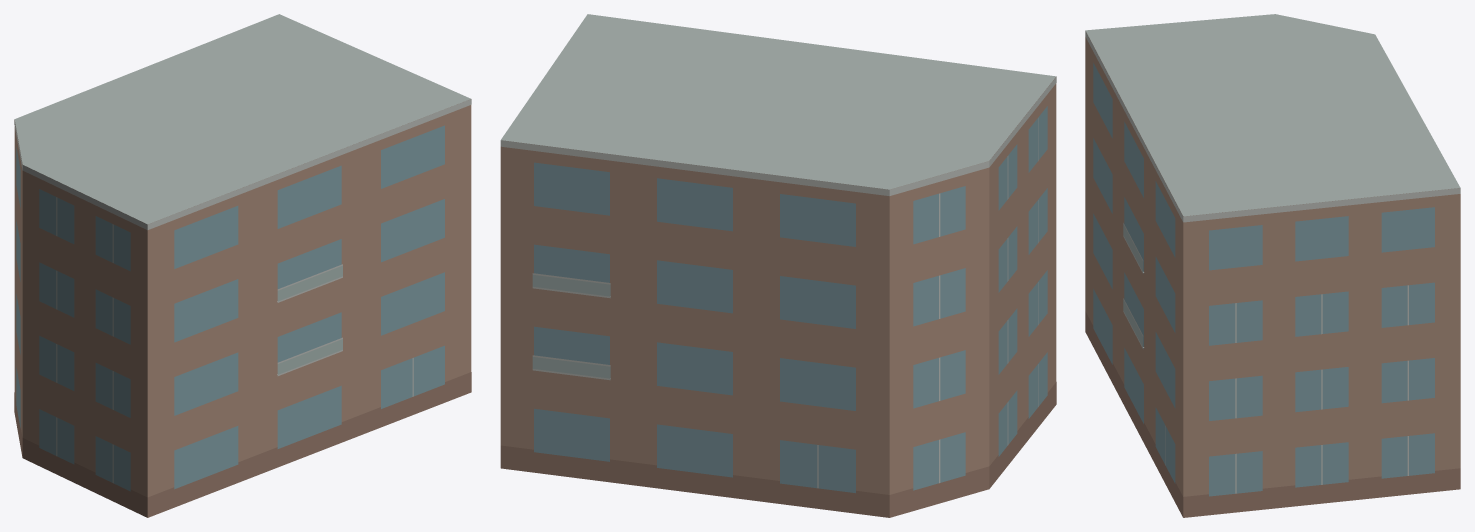
The model's file is survey-upis-33032058.glb.
3 renders of one model, left to right at view 1: azimuth 30°, elevation 25°; view 2: azimuth 150°, elevation 25°; view 3: azimuth 270°, elevation 25°, orthographic. The views are drawn at different scales.
Parts seen in each view (by area): view 1: survey-upis-33032058.tmp; view 2: survey-upis-33032058.tmp; view 3: survey-upis-33032058.tmp.
Part boxes in pixels (box(x1,y1,x2,y2)): survey-upis-33032058.tmp: box(14, 14, 471, 517); survey-upis-33032058.tmp: box(500, 14, 1056, 517); survey-upis-33032058.tmp: box(1085, 14, 1460, 517).
Bounding box in the file's own units: 17.58 × 12.2 × 13.77.
